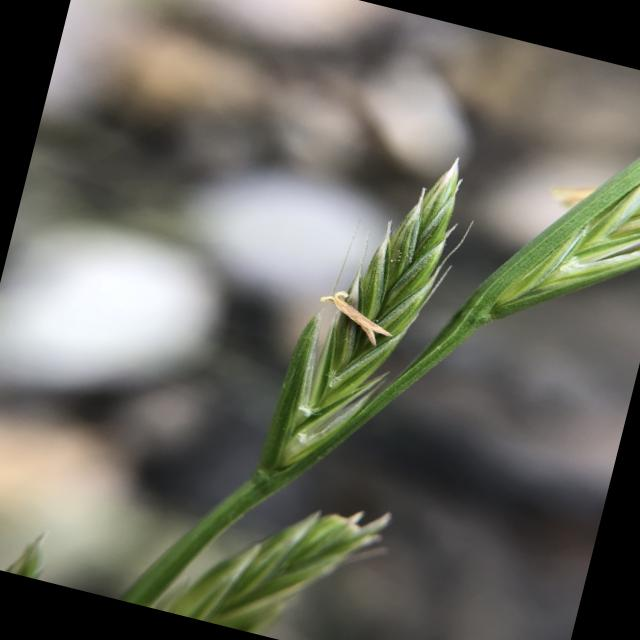Lolium: (115, 9, 640, 640)
